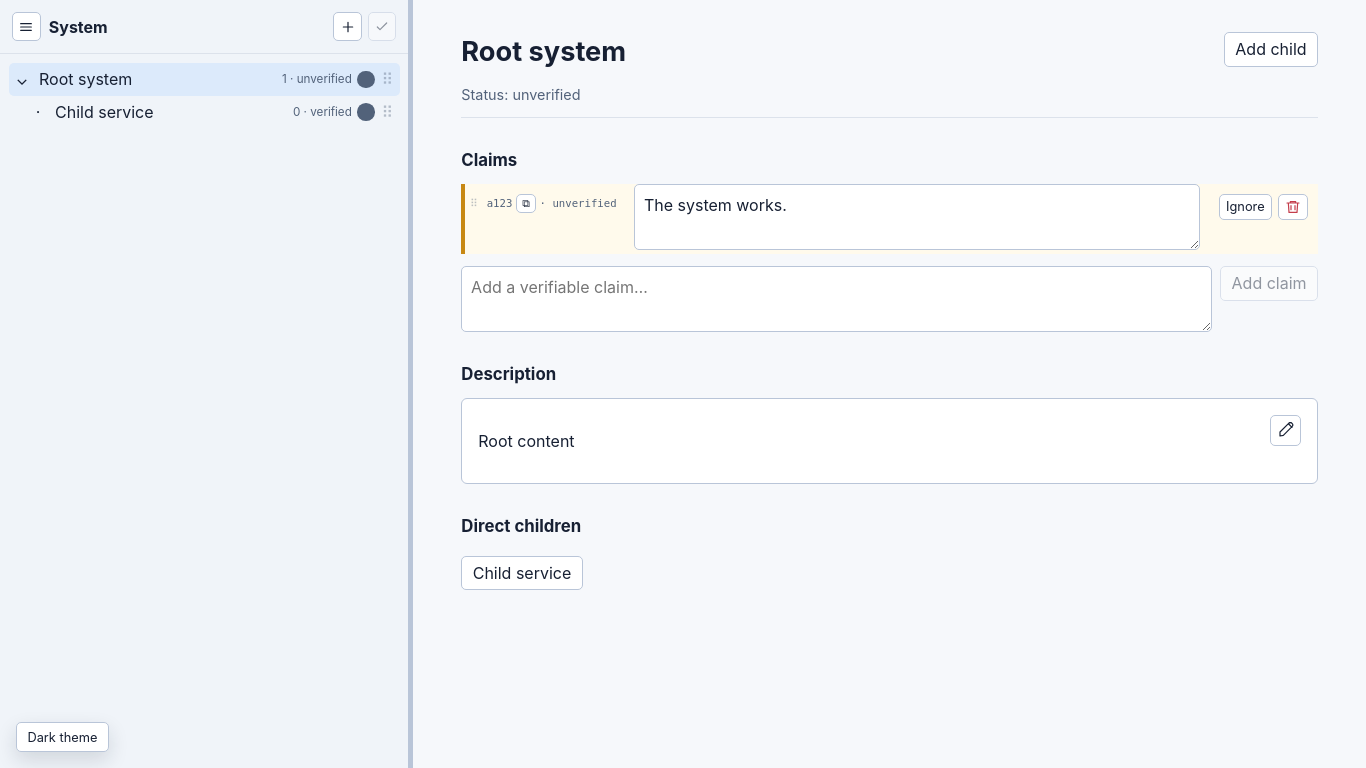
Test: workspace interface specification › 372d expands and collapses nodes in the hierarchy
Expected: the field showing "Root system" is shown, [461, 32, 1208, 71]
Expected: the number of elements with class "tree-name" is 2, [39, 69, 132, 89]; [55, 102, 154, 122]
What coordinates should you click on to do the following:
click the button named "Collapse"
I would click on:
 (22, 79)
Its box is [11, 69, 33, 89].
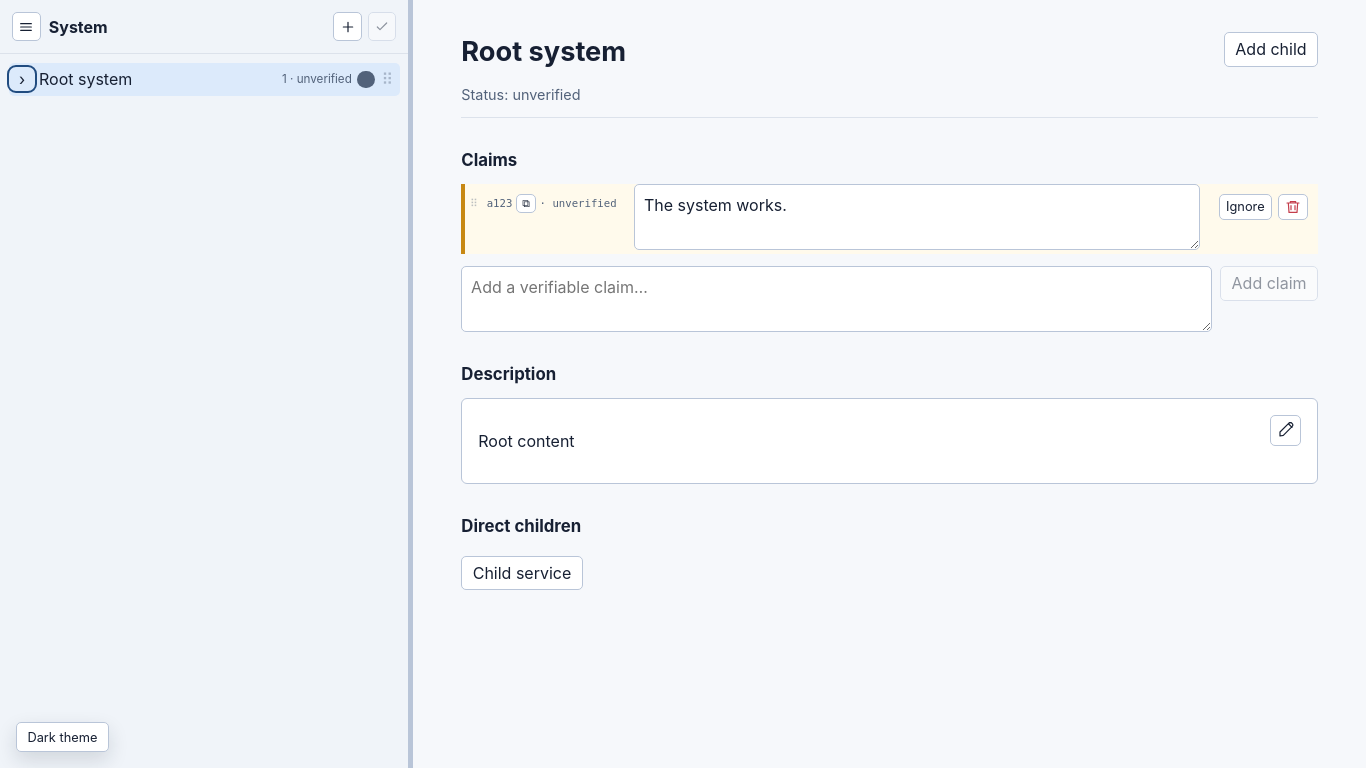
Expected: the number of elements with class "tree-name" is 1, [39, 69, 132, 89]
What coordinates should you click on to do the following:
click the button named "Expand"
I would click on:
 (22, 79)
Its box is [11, 69, 33, 89].
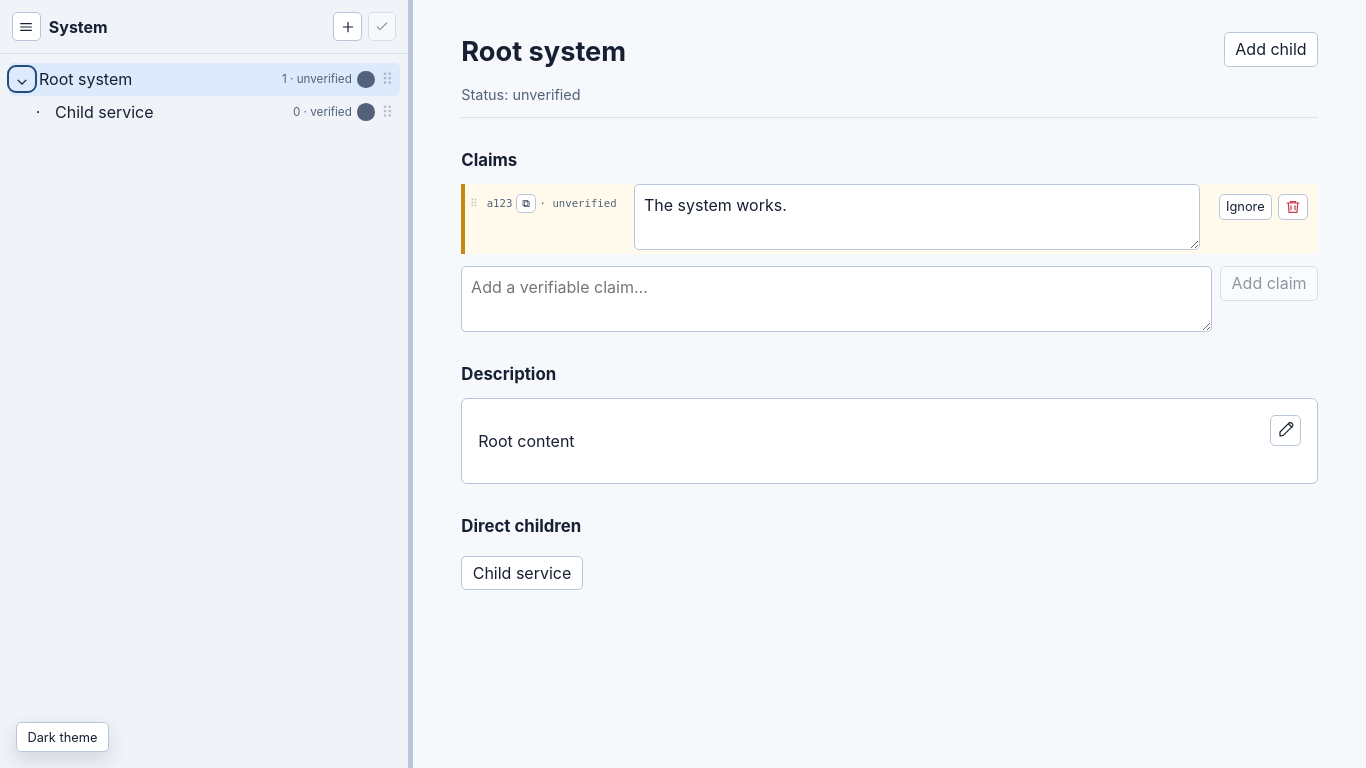
Expected: the number of elements with class "tree-name" is 2, [39, 69, 132, 89]; [55, 102, 154, 122]
